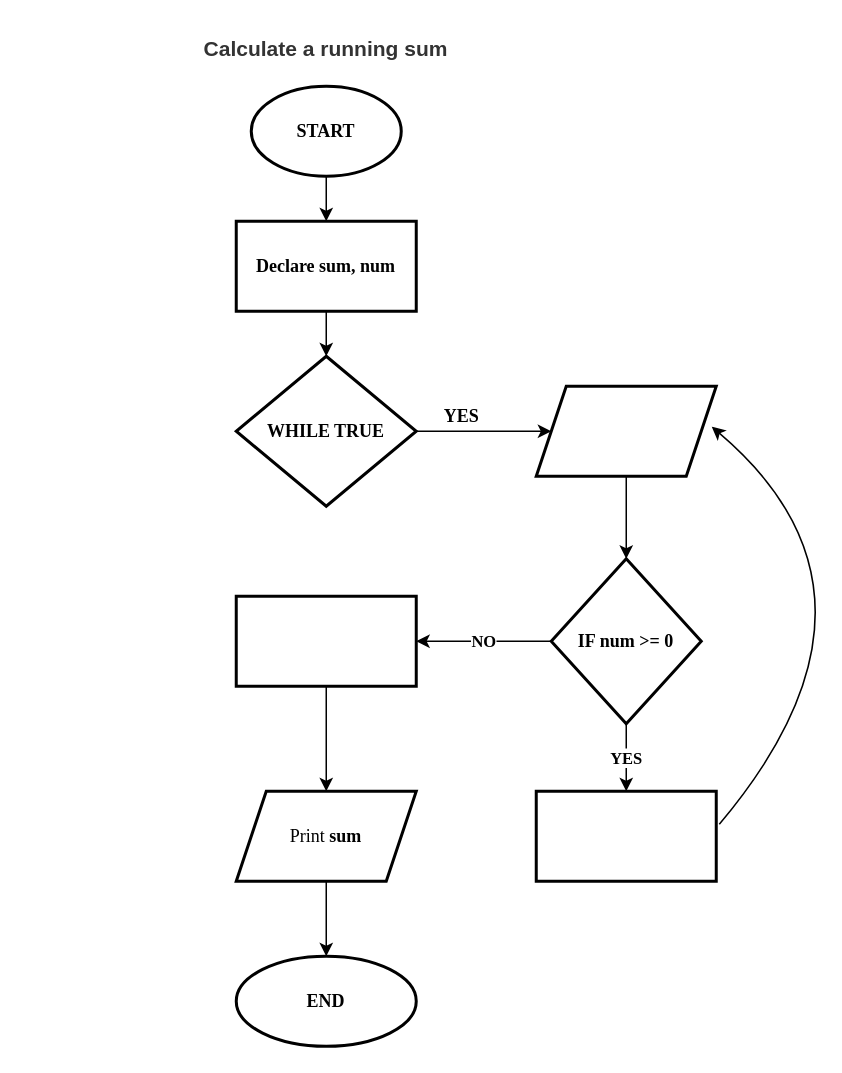
The diagram is 842 pixels wide and 1073 high, and some of its shapes have lost their labels. The box of each missing label's shape, as (x1, y1, x2, y2) in pixels:
Input num: (534, 384, 717, 477)
Sum = Sum + num: (534, 789, 717, 882)
TERMINATE LOOP: (234, 594, 417, 687)
